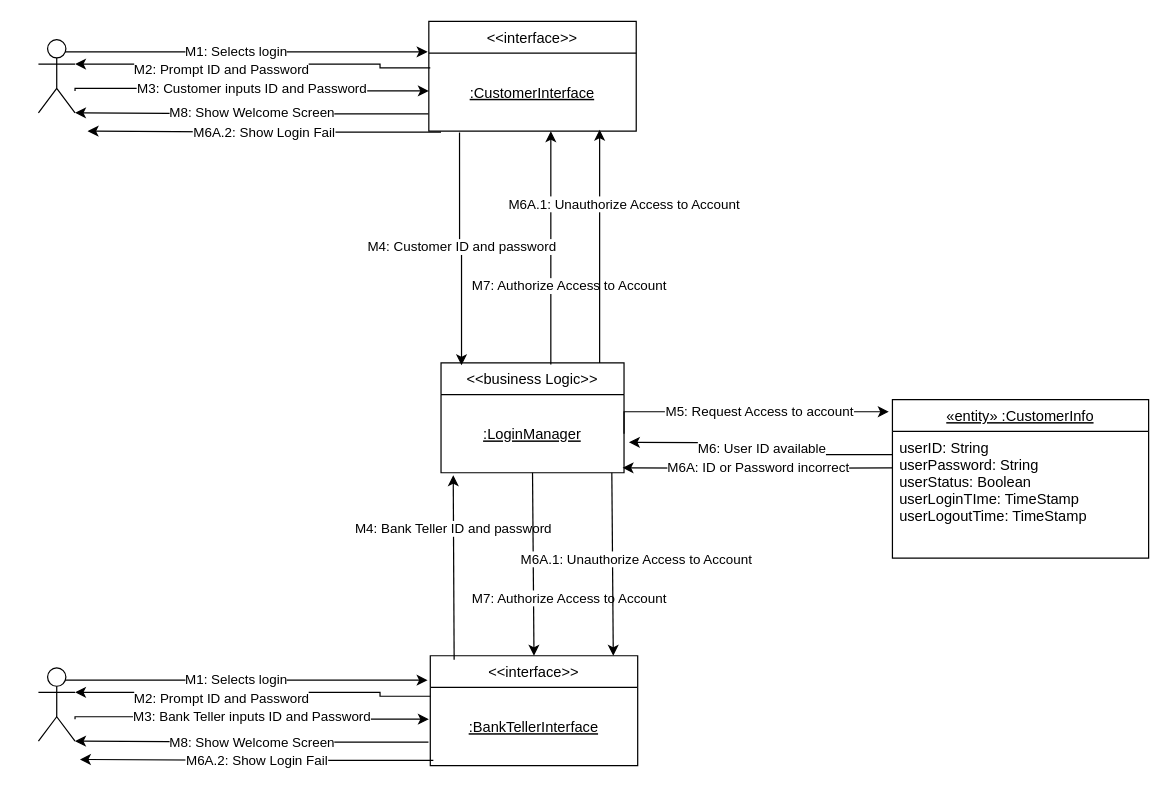
Some shapes in this 1170 by 792 pixel diagram are drawn without their labels. The shapes that lost their labels are listed below. From the top down, each one's centre as x and y in pixels, then its label:
At point 56,75: "Customer".
At point 56,704: "Bank Teller".
